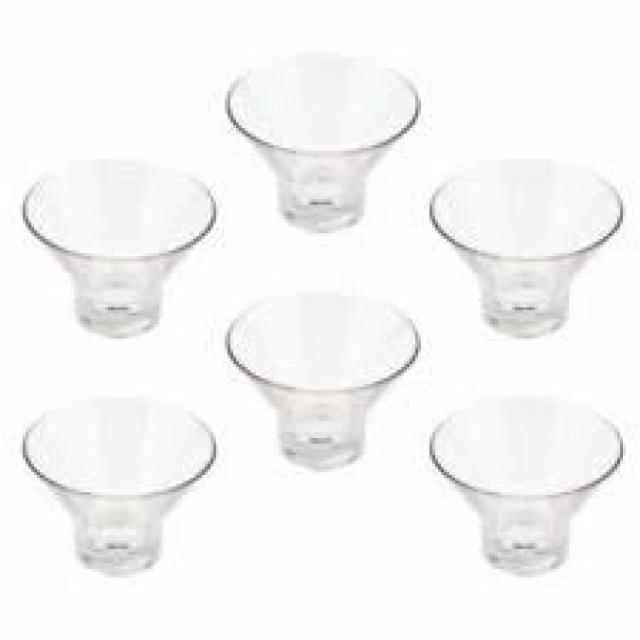Glass: (430, 392, 625, 575), (23, 393, 218, 576), (226, 48, 419, 232), (25, 154, 218, 338), (226, 288, 419, 470), (432, 158, 626, 339)
